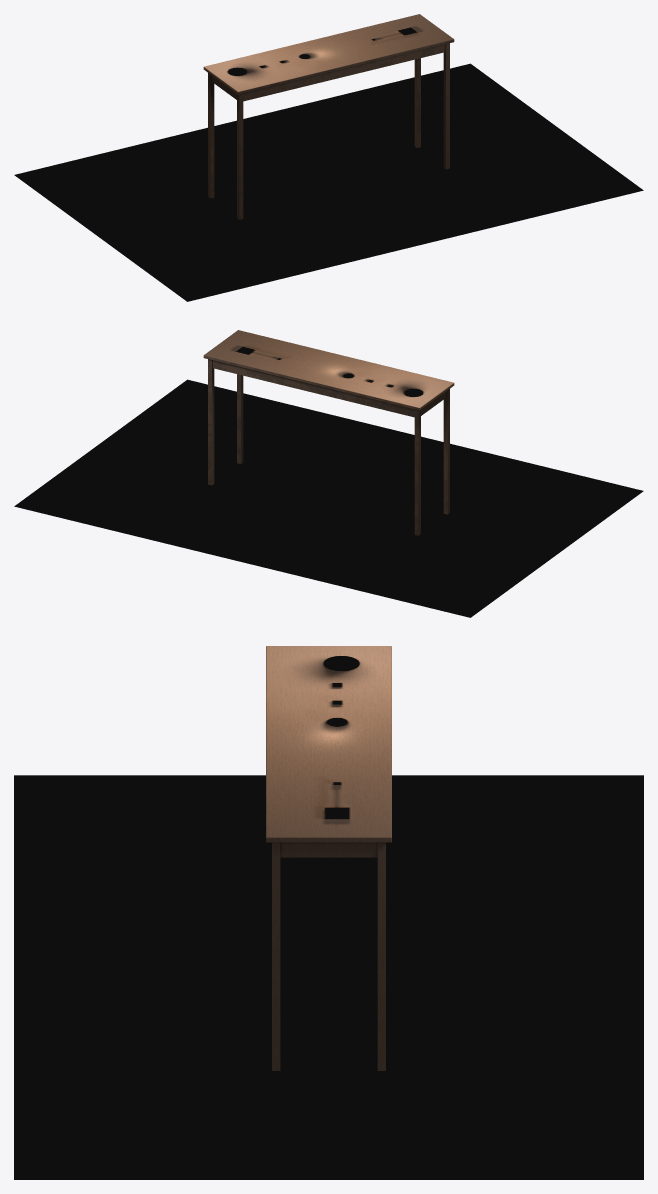
The model's file is 807_elec.glb.
3 renders of one model, top to bottom at view 1: azimuth 30°, elevation 25°; view 2: azimuth 150°, elevation 25°; view 3: azimuth 270°, elevation 25°, orthographic. The views are drawn at different scales.
Visible parts, largest first — view 1: Shadow, Table; view 2: Shadow, Table; view 3: Shadow, Table.
Boxes of the visible parts, bbox=[...] form: Shadow: bbox=[14, 63, 643, 301]; Table: bbox=[203, 14, 454, 219]; Shadow: bbox=[14, 379, 643, 617]; Table: bbox=[203, 330, 454, 535]; Shadow: bbox=[14, 775, 643, 1179]; Table: bbox=[266, 646, 391, 1070].
Bounding box in the file's own units: 11.4 × 3.1 × 7.5.
2 materials, 2 textured.
